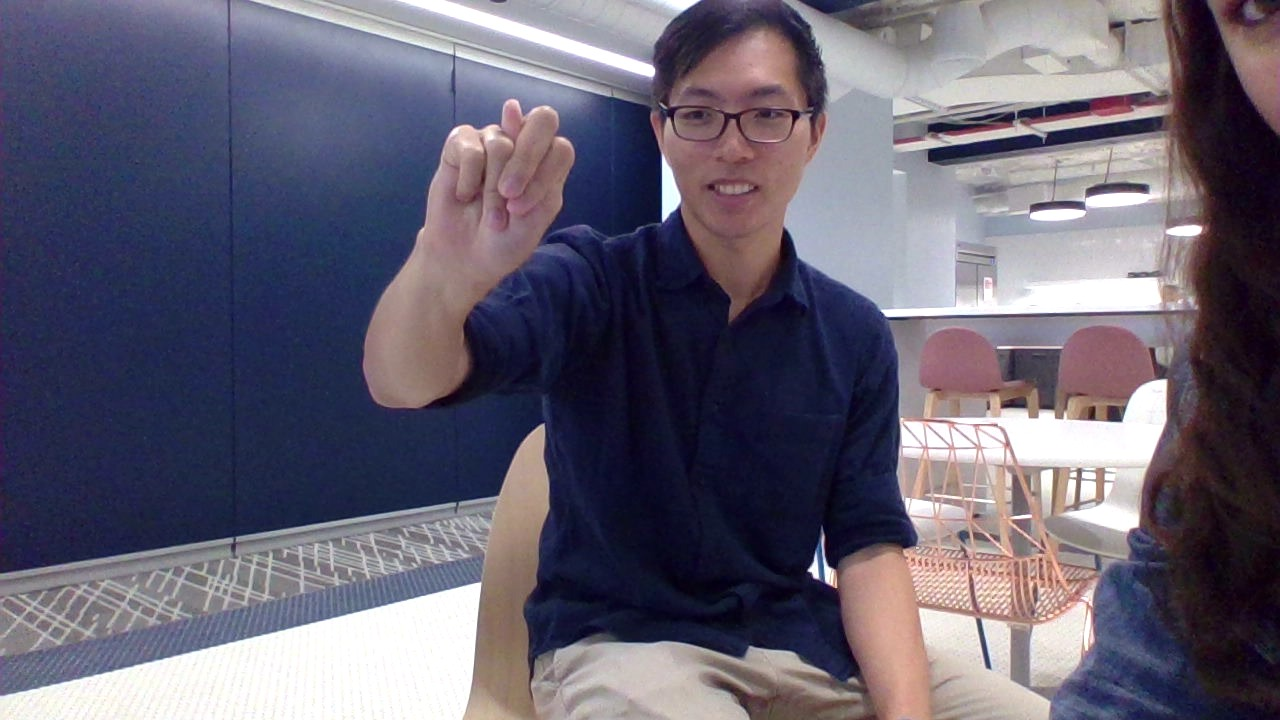n: (406, 87, 592, 285)
